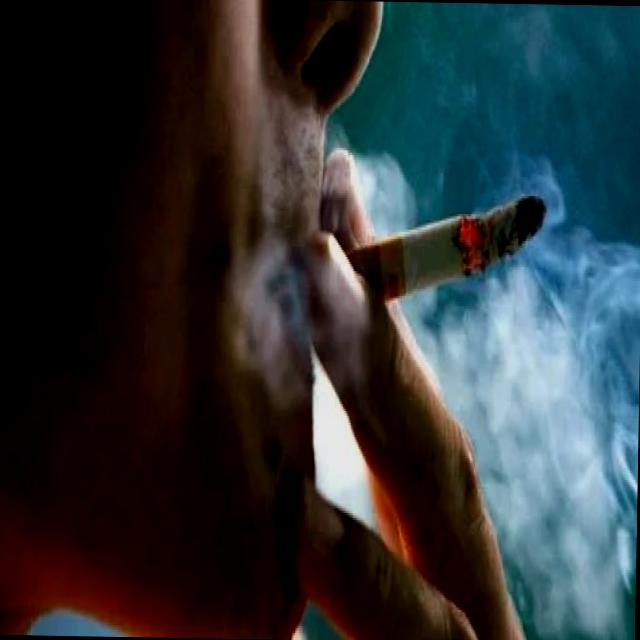cigarette: (321, 183, 546, 324)
